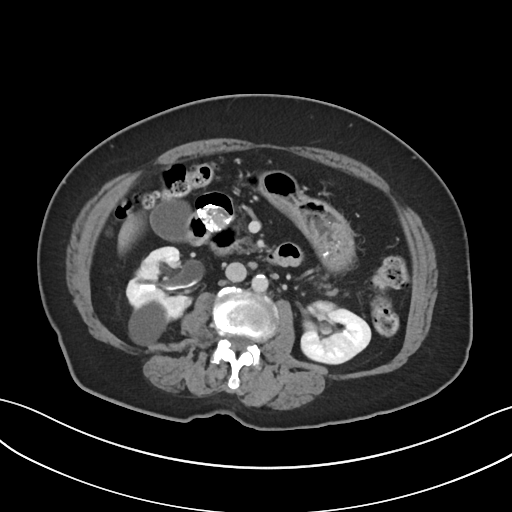Lesion: (129, 299, 167, 349)
